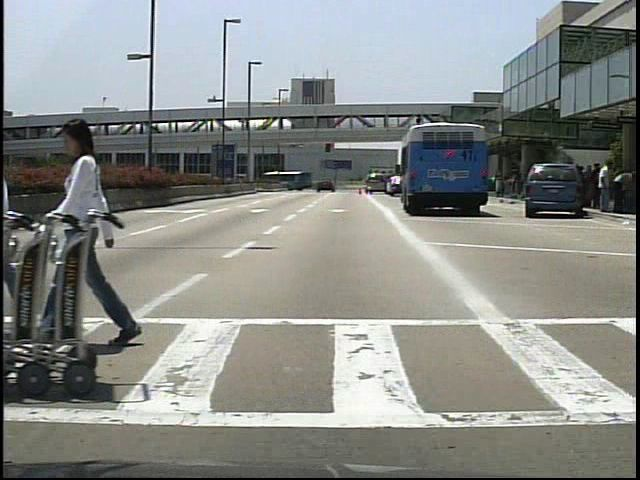person: (57, 109, 142, 353), (4, 121, 80, 340), (598, 160, 618, 213), (588, 162, 605, 213)
